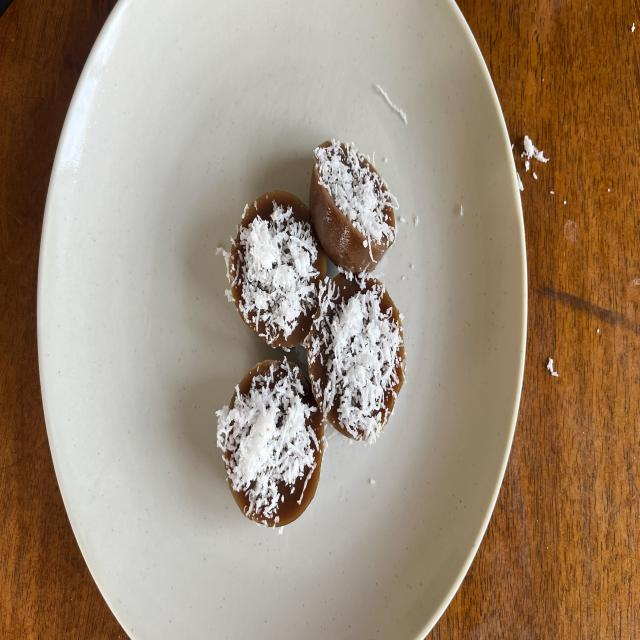Kuih lompang: (218, 360, 324, 527), (306, 273, 405, 442), (226, 191, 326, 351), (310, 140, 399, 273)
